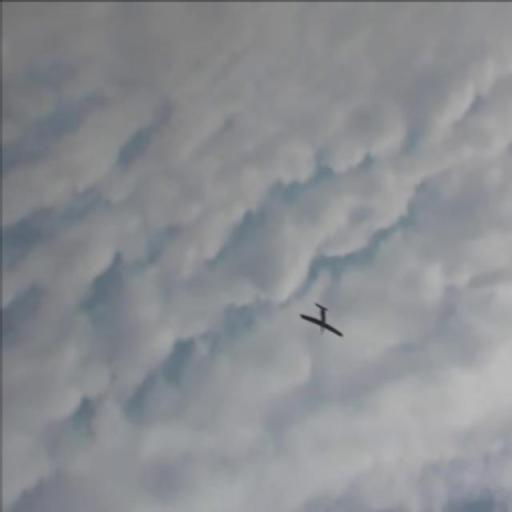uav: (298, 302, 343, 340)
